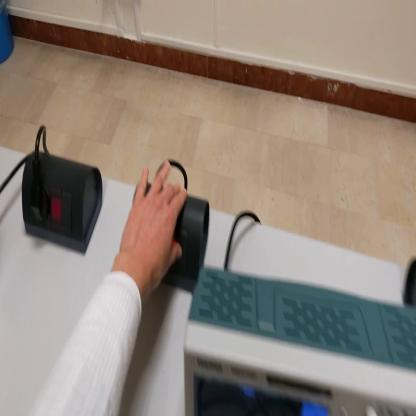hand: (119, 162, 188, 294)
oscilloscope: (185, 266, 416, 414)
socket: (23, 153, 107, 259), (133, 176, 209, 289)
